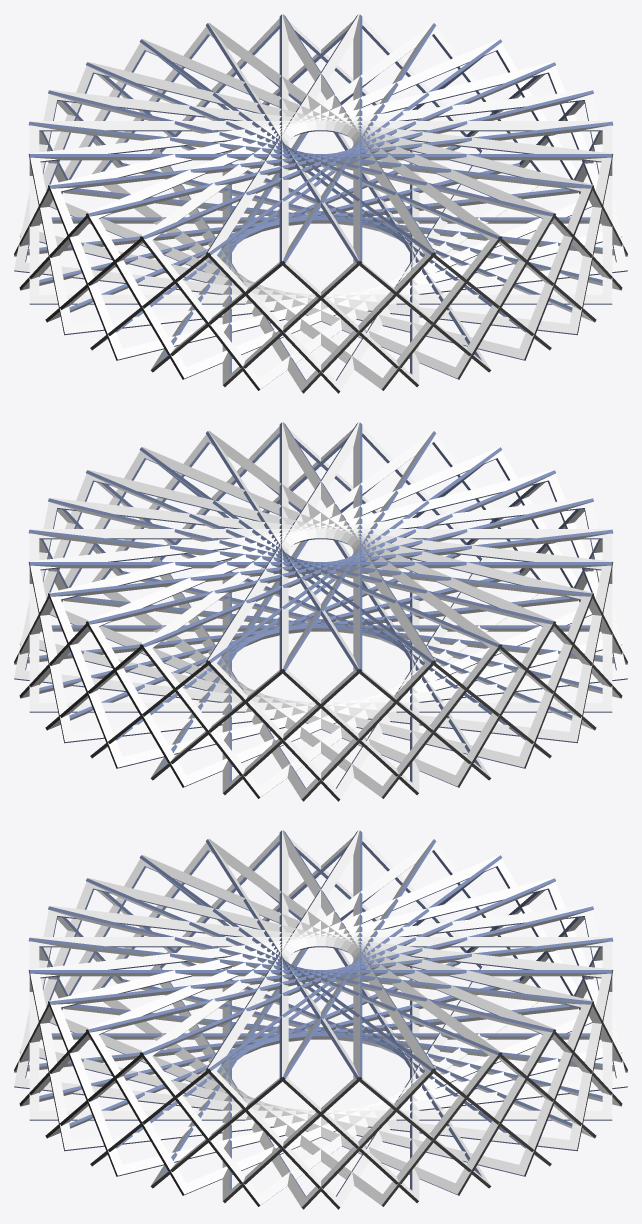
Rendered from abstract_14.glb.
3 views of the same model, one above another, from view 1: azimuth 30°, elevation 25°; view 2: azimuth 150°, elevation 25°; view 3: azimuth 270°, elevation 25° (orthographic).
Visible parts, largest first — view 1: Material2 (×4); view 2: Material2 (×4); view 3: Material2 (×4).
Part boxes in pixels (left/top/right/bottom): Material2 (×4): left=14, top=14, right=627, bottom=393; Material2 (×4): left=14, top=422, right=627, bottom=801; Material2 (×4): left=14, top=830, right=627, bottom=1209.
Size of the model in its own units: 758 by 173 by 758.
